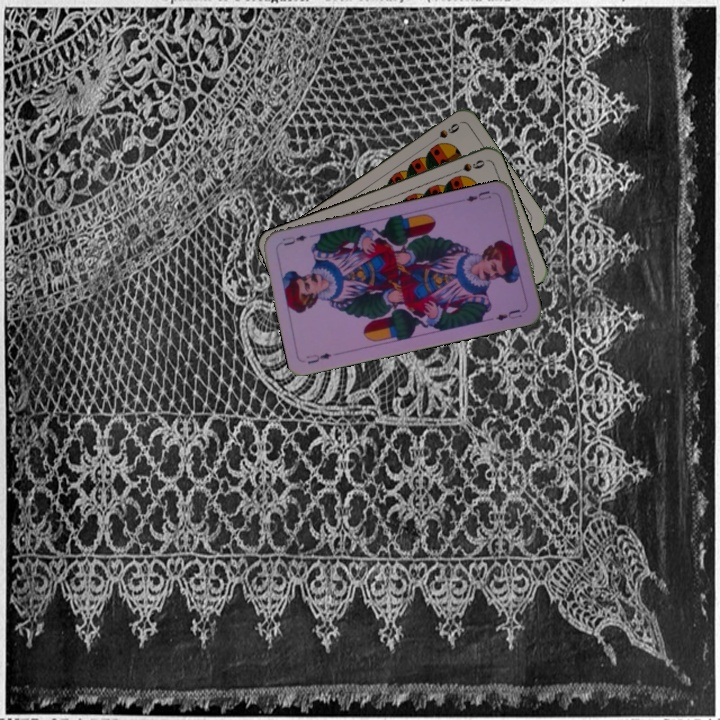EU: (462, 186, 494, 205), (302, 349, 334, 367)
S9: (426, 119, 462, 146), (448, 156, 488, 177)
